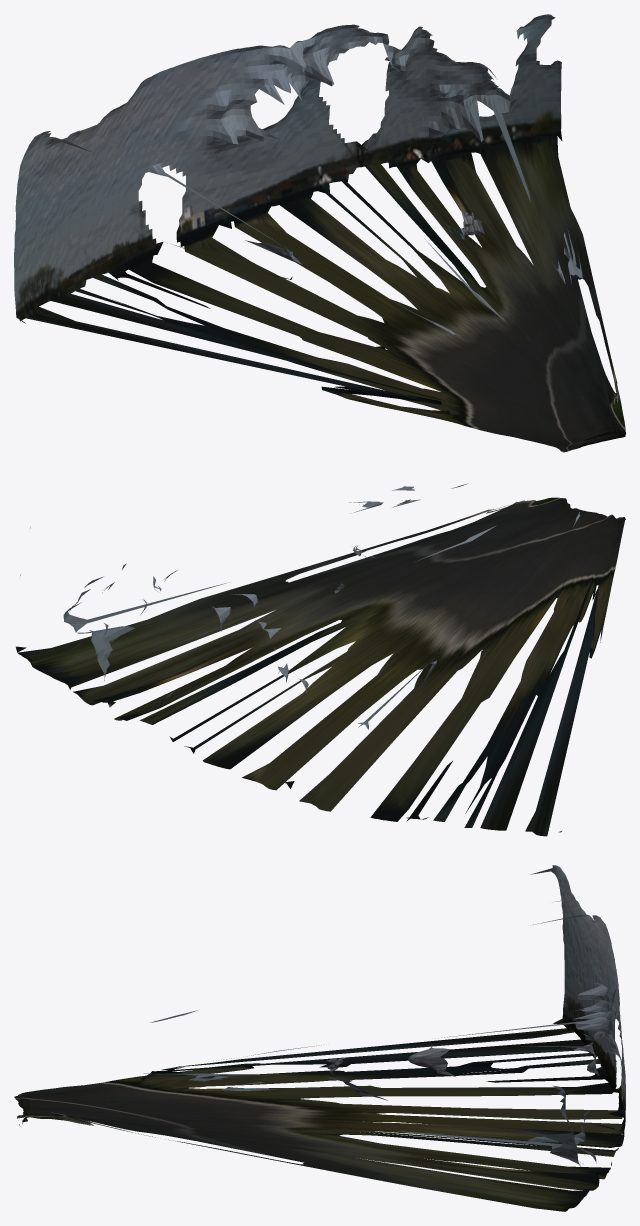
The picture shows the model from 3 angles, top to bottom: view 1: azimuth 30°, elevation 25°; view 2: azimuth 150°, elevation 25°; view 3: azimuth 270°, elevation 25°; orthographic projection. The views are drawn at different scales.
Visible parts, largest first — view 1: defaultobject; view 2: defaultobject; view 3: defaultobject.
Boxes of the visible parts, bbox=[...] form: defaultobject: bbox=[14, 14, 625, 452]; defaultobject: bbox=[15, 483, 625, 836]; defaultobject: bbox=[14, 865, 625, 1211].
Size of the model in its own units: 41.16 by 14.02 by 44.61.
1 material, 1 textured.
